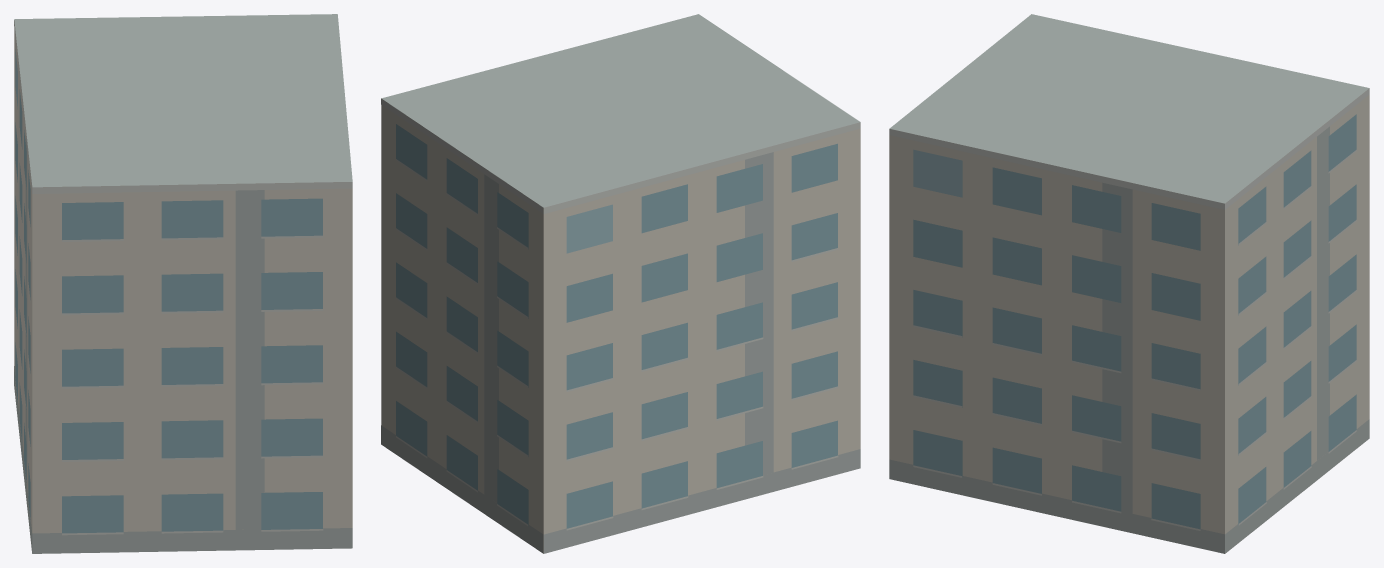
File: survey-upis-33009466.glb
3 views of the same model, side by side, from view 1: azimuth 30°, elevation 25°; view 2: azimuth 150°, elevation 25°; view 3: azimuth 270°, elevation 25° (orthographic). The views are drawn at different scales.
Parts seen in each view (by area): view 1: survey-upis-33009466.tmp; view 2: survey-upis-33009466.tmp; view 3: survey-upis-33009466.tmp.
Boxes of the visible parts, left/top/right/bottom form: survey-upis-33009466.tmp: left=14, top=14, right=352, bottom=553; survey-upis-33009466.tmp: left=381, top=14, right=860, bottom=553; survey-upis-33009466.tmp: left=889, top=14, right=1369, bottom=553.
Bounding box in the file's own units: 15.45 × 13.3 × 16.54.
